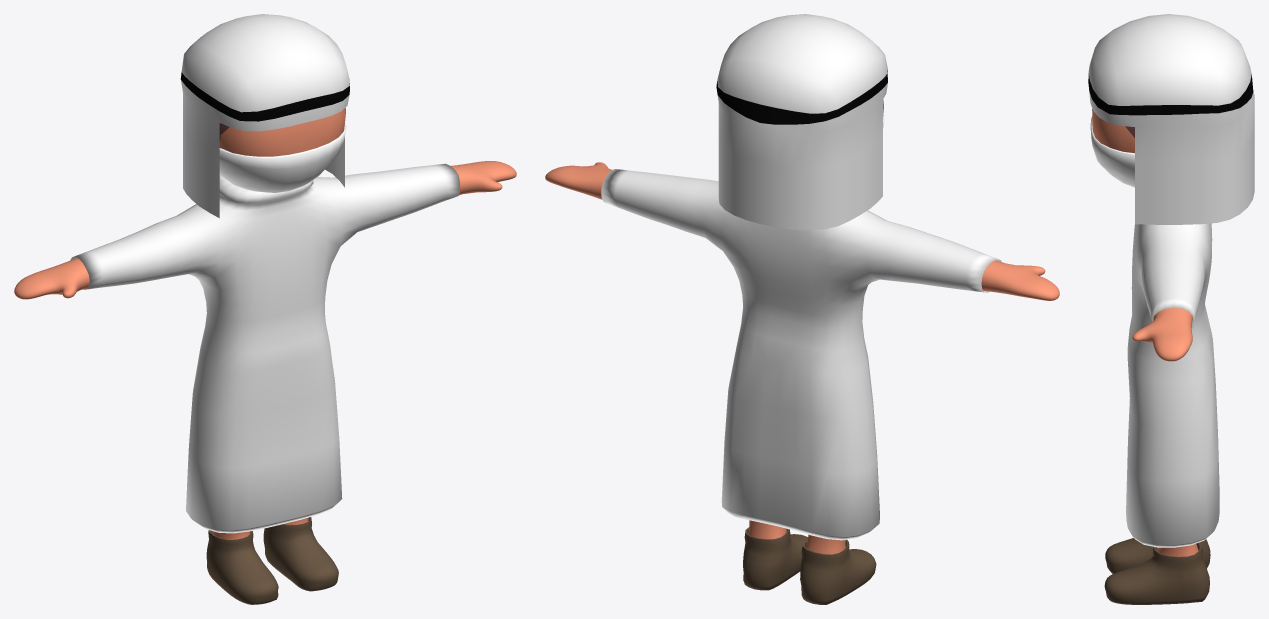
The model's file is VillagerCharacter.fbx.
3 renders of one model, left to right at view 1: azimuth 30°, elevation 25°; view 2: azimuth 150°, elevation 25°; view 3: azimuth 270°, elevation 25°, orthographic.
Parts seen in each view (by area): view 1: Character; view 2: Character; view 3: Character.
Boxes of the visible parts, x1,y1,x2,y2 form: Character: (14,14,516,604); Character: (545,14,1059,604); Character: (1088,14,1254,604).
Size of the model in its own units: 2.05 by 2.16 by 0.5816.
